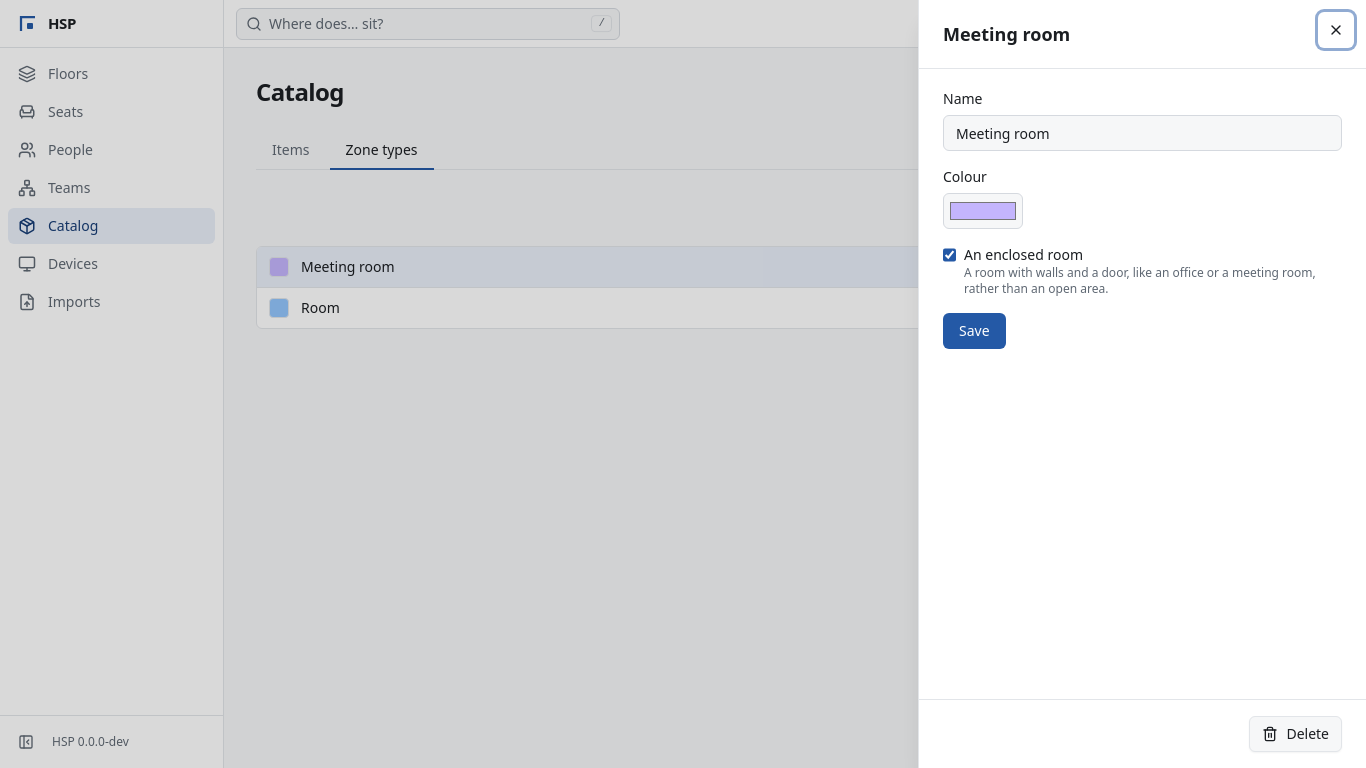
Scenario: zone types (docs/0095) › deletes an unused one at once, and Undo adds it back
The width and height of the screenshot is (1366, 768).
Step 1. Click the button "Delete" → (1296,734), box [1249,716,1342,752]
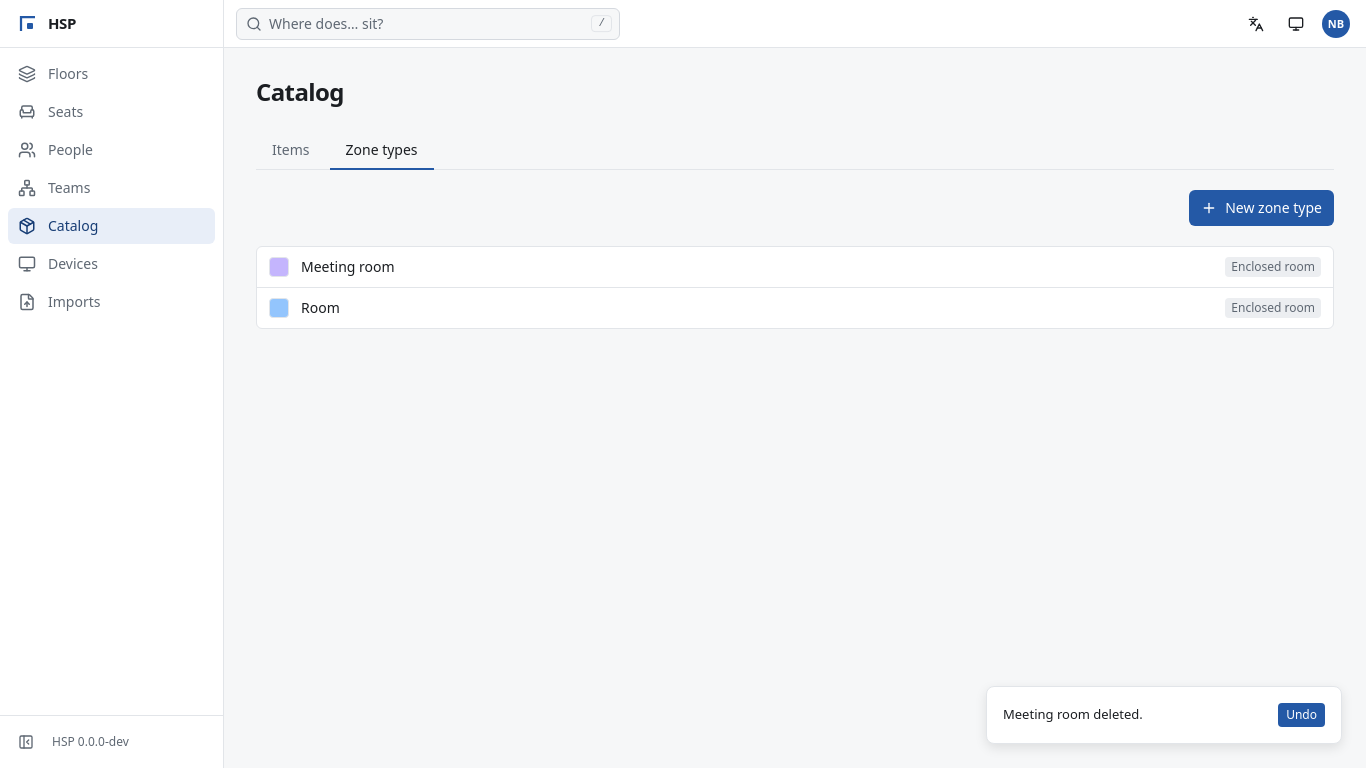
Step 2. Click the button "Undo" → (1302,715), box [1278,703,1325,727]
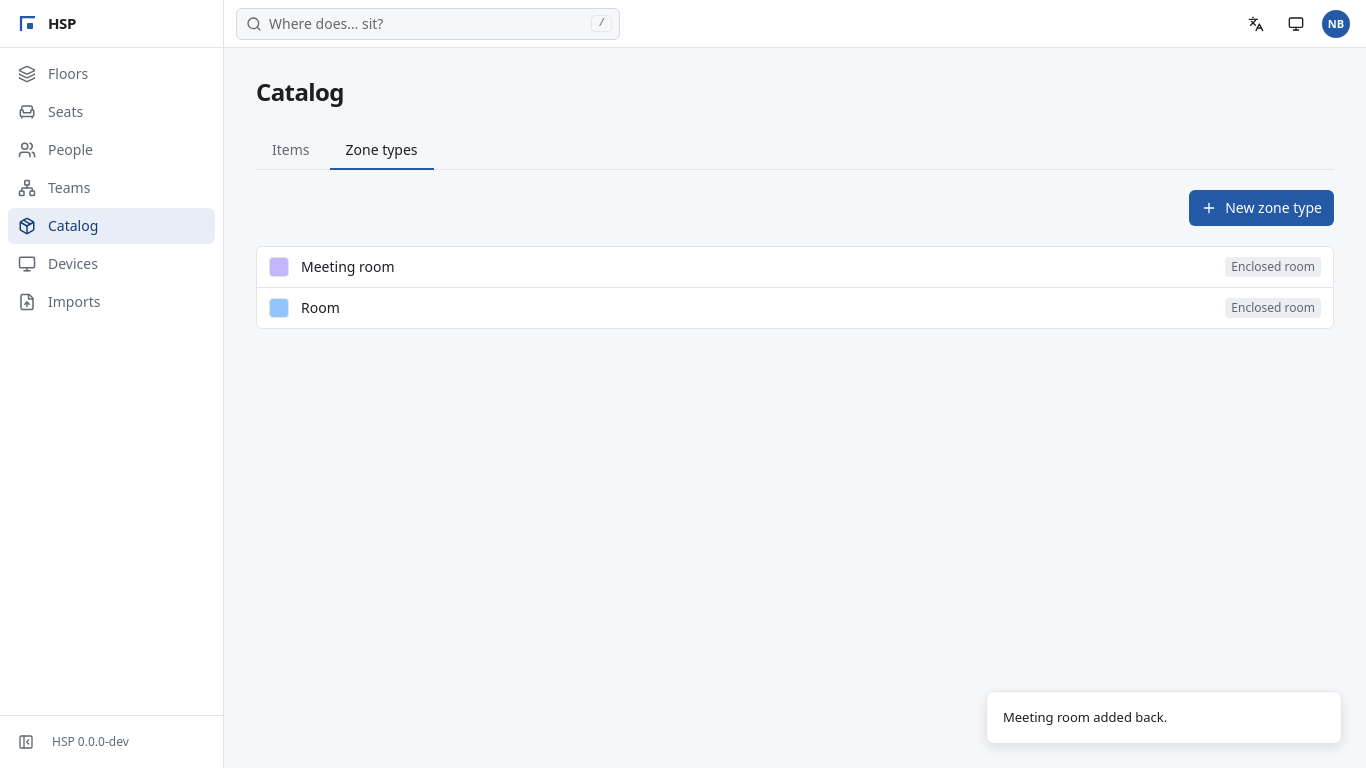
expect the text "Meeting room added back." is shown: met, box [1003,708,1167,727]
